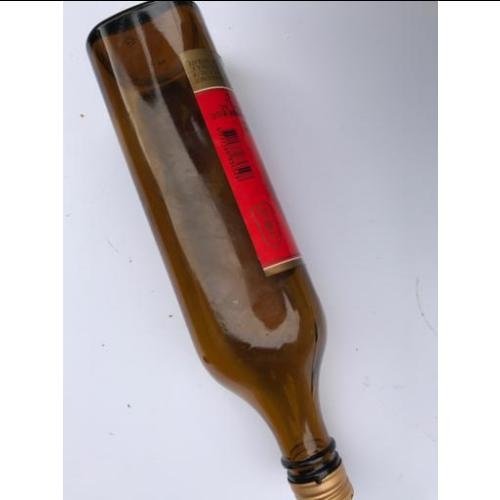glass: (88, 1, 355, 500)
